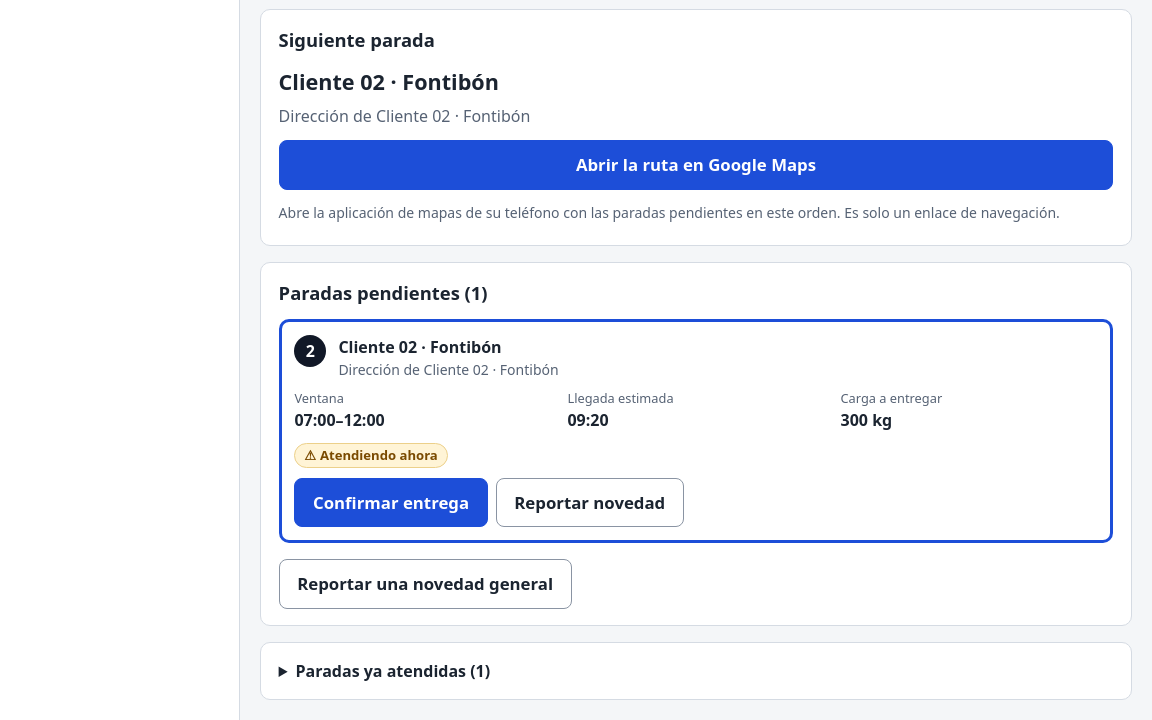
Test case: hoja de ruta del conductor › si la entrega ya estaba confirmada por geocerca lo dice
(page scrolled)
Click the button with aria-label "Confirmar entrega a Cliente 02 · Fontibón": (391, 503) [294,478,488,528]
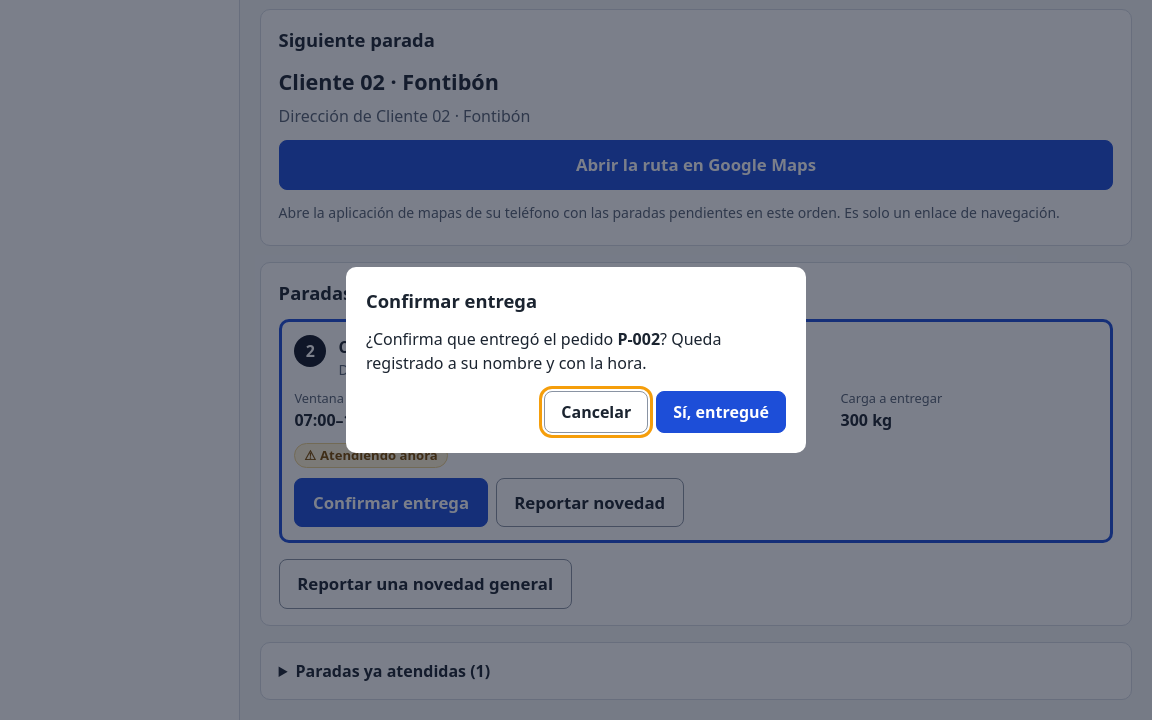
Click the button "Sí, entregué": (721, 412) [656,391,786,433]
(page scrolled)
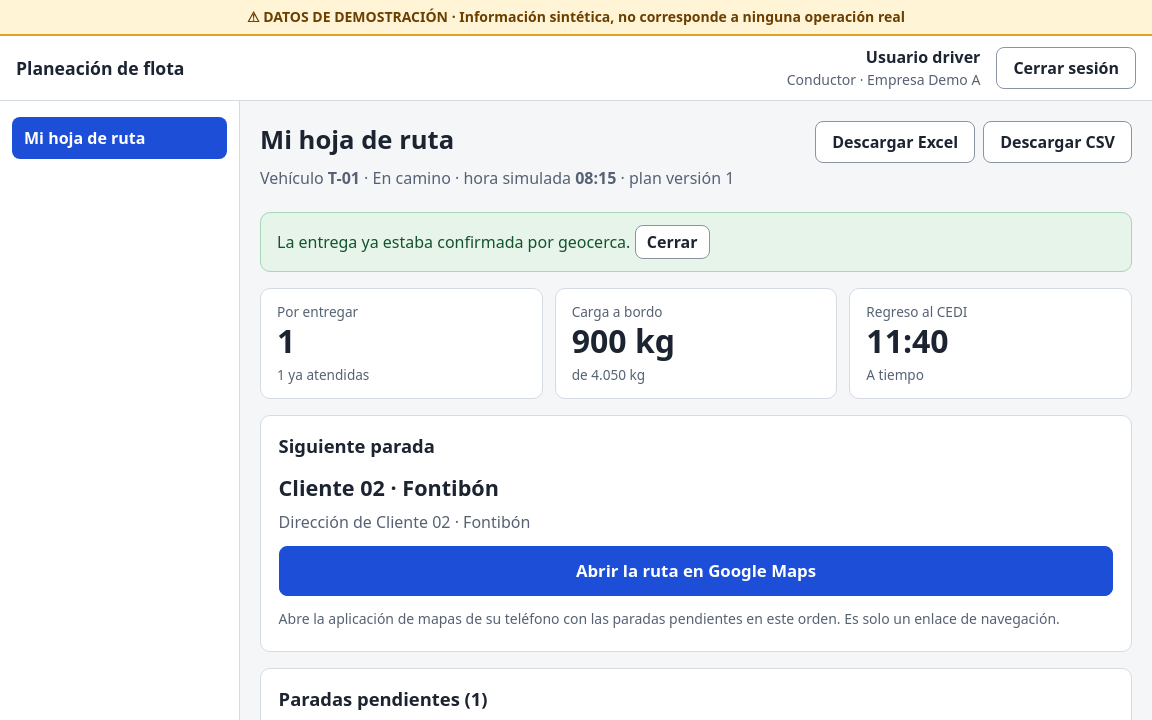
Check: the text "La entrega ya estaba confirmada por geocerca. Cerrar" is shown, box [260,212,1132,272]
